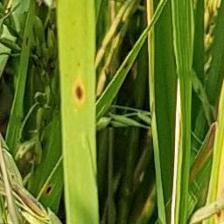0 BrownSpot: (70, 74, 89, 107)
